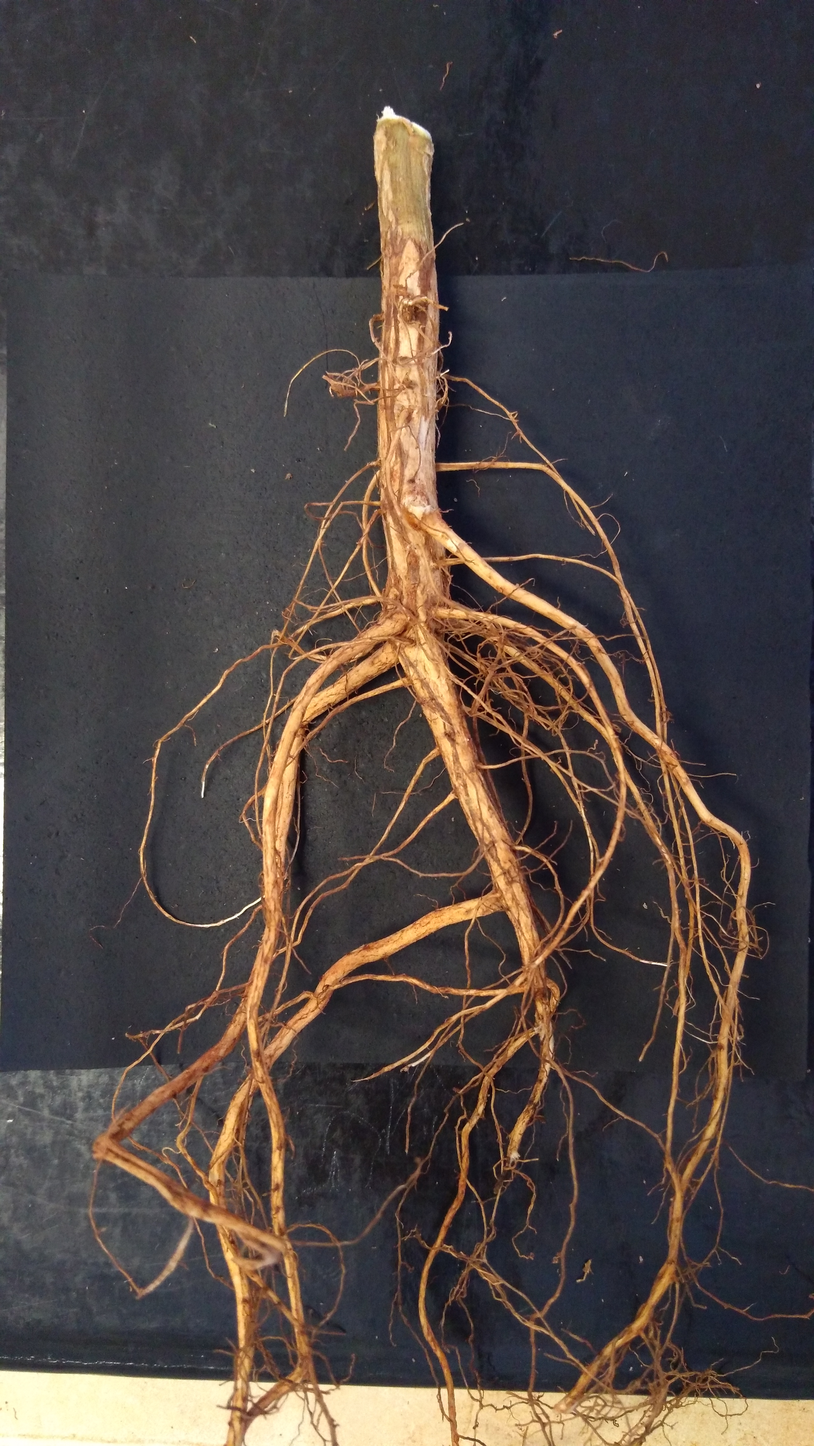nodule: (380, 588, 400, 610), (400, 298, 416, 323), (330, 380, 345, 393), (582, 1258, 591, 1274), (373, 313, 384, 322)
